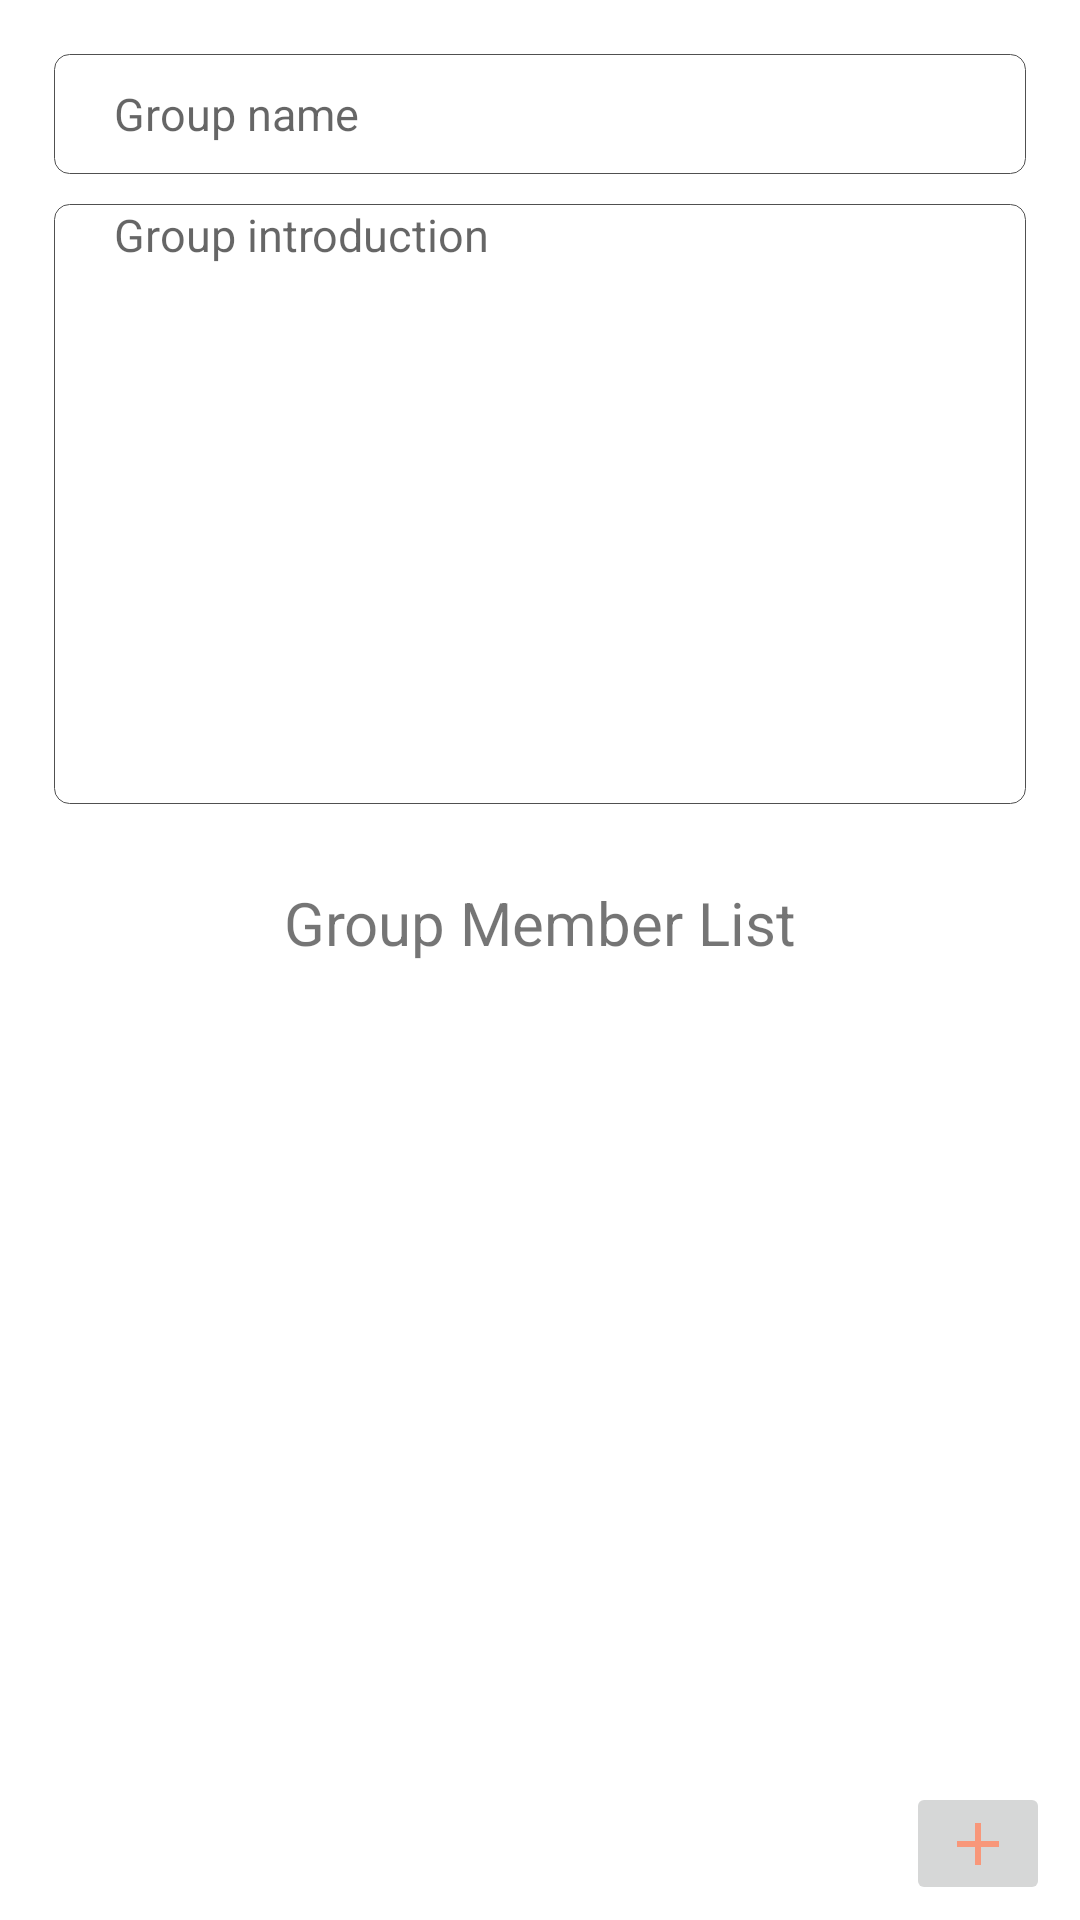

Screen size 1080x1920. Icon name, then its box in pixels as {"x1": x1, "y1": y1, "x2": x2, "y2": y2}:
Add: {"x1": 918, "y1": 1800, "x2": 1038, "y2": 1887}
